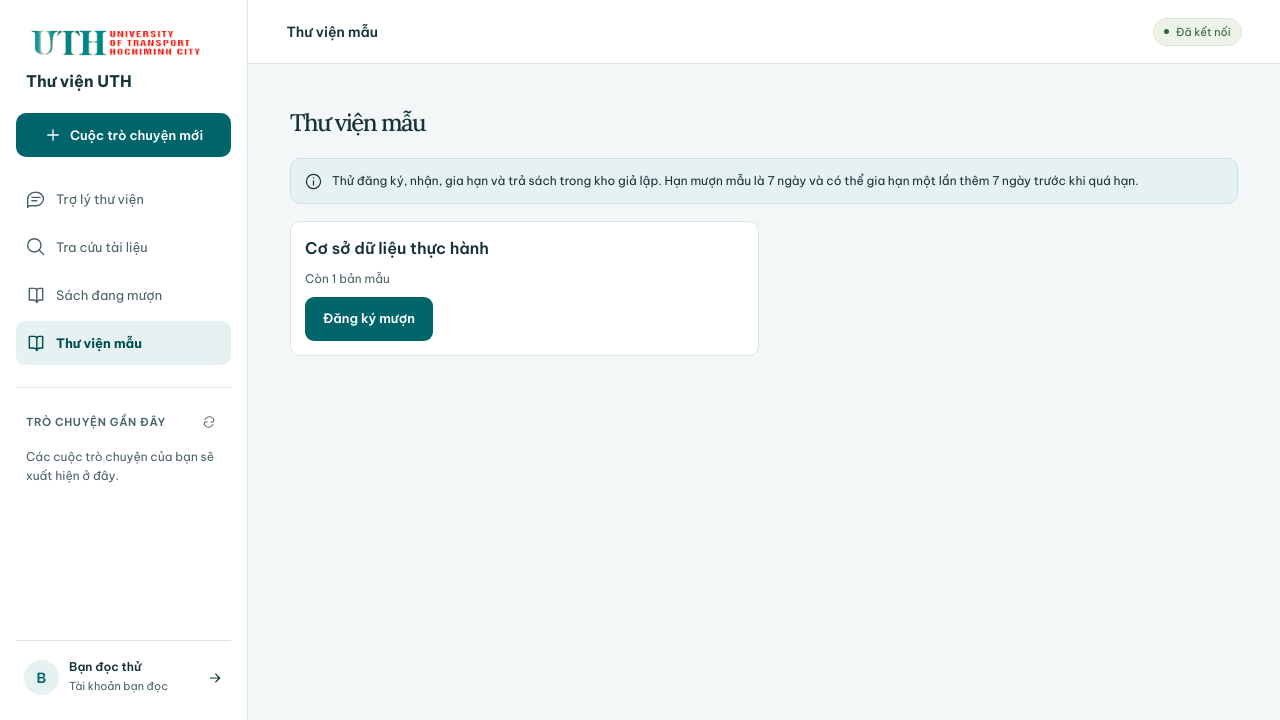
Scenario: lets a signed-in reader confirm a reservation and see it in the sample library
Click the button with aria-label "đăng ký mượn cơ sở dữ liệu" at [369, 319], box x1=305 y1=297 x2=433 y2=341
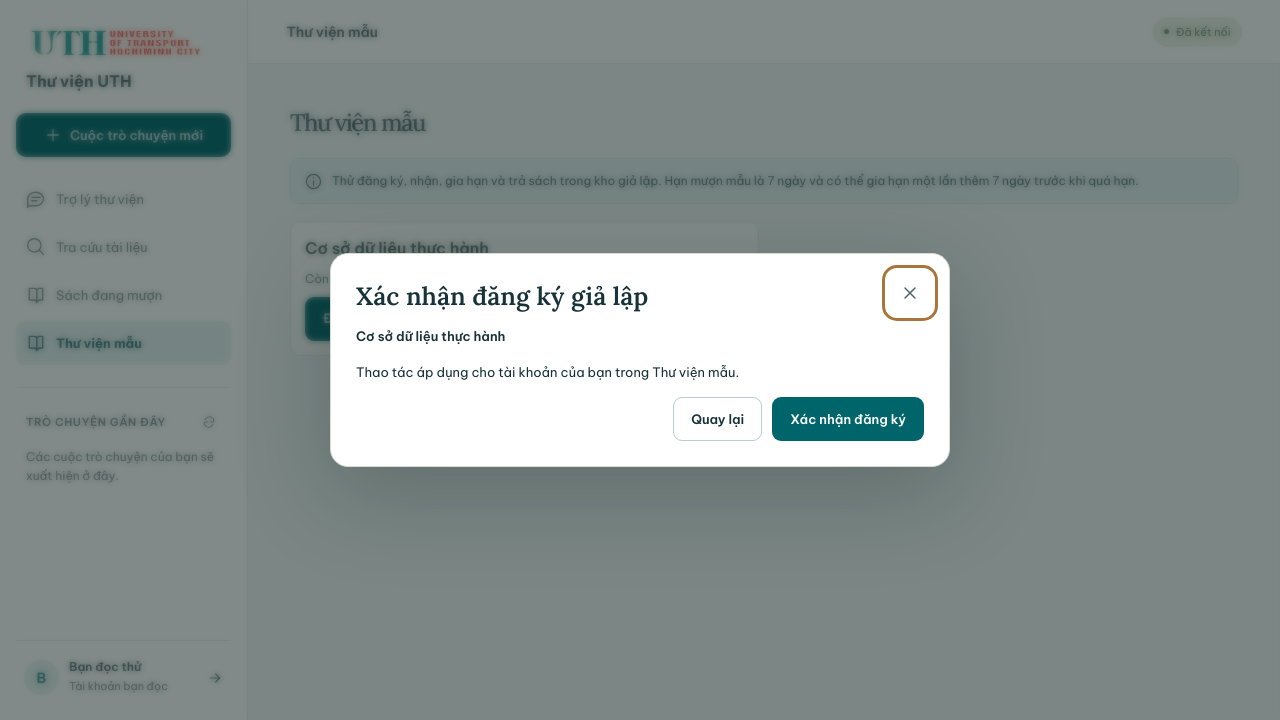
Check: the dialog "Xác nhận đăng ký giả lập" is shown, box x1=330 y1=253 x2=950 y2=467
Click the button "Xác nhận đăng ký" at [848, 419], box x1=772 y1=397 x2=924 y2=441
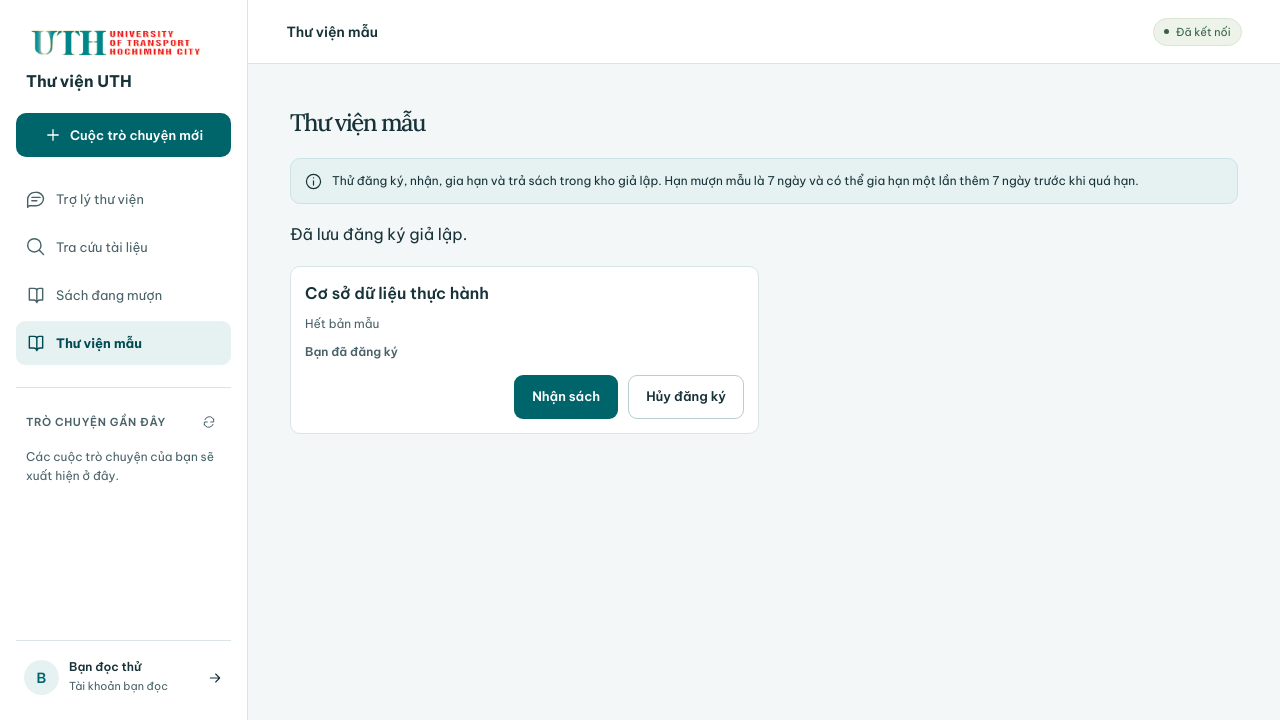
Check: the text "Bạn đã đăng ký" is shown, box x1=305 y1=344 x2=398 y2=359
Check: the button with aria-label "hủy đăng ký cơ sở dữ liệu" is shown, box x1=628 y1=375 x2=744 y2=419
